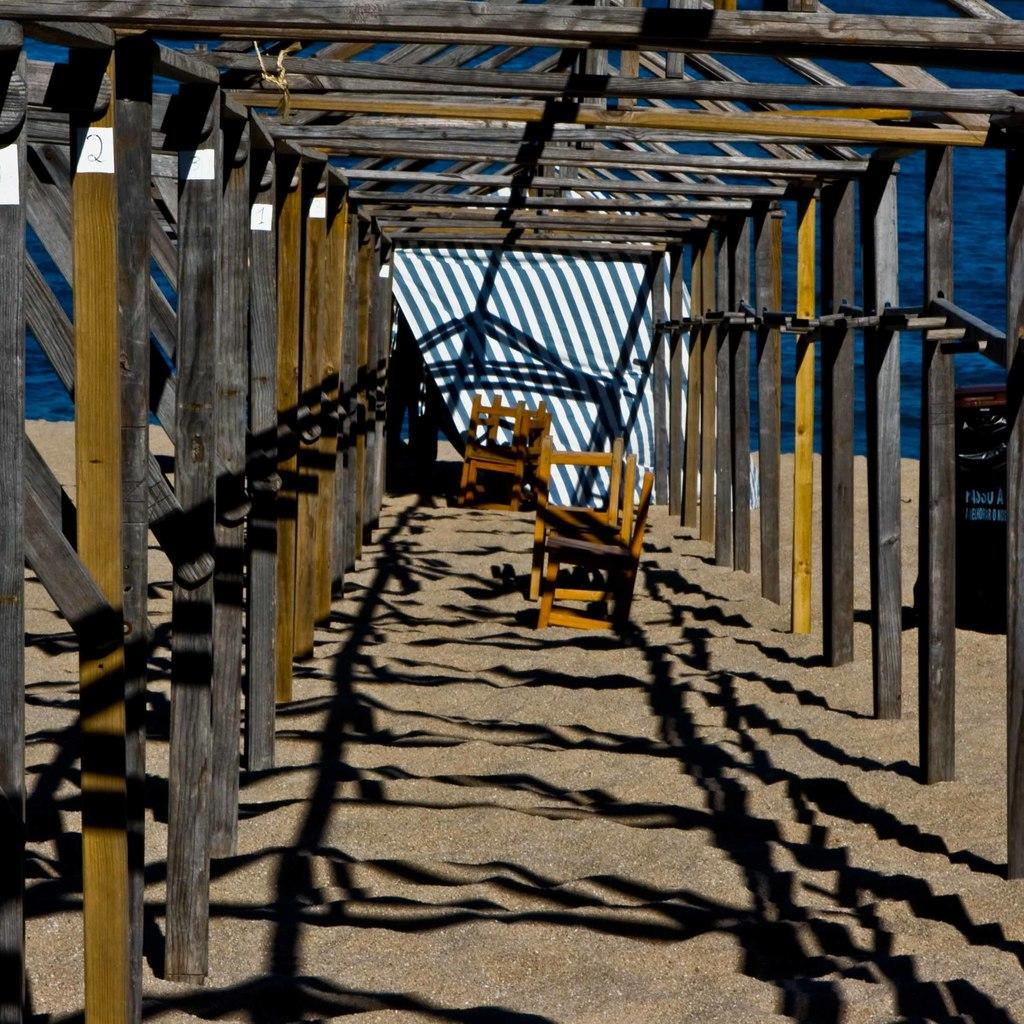Chair: (513, 429, 651, 637), (459, 394, 550, 513)
